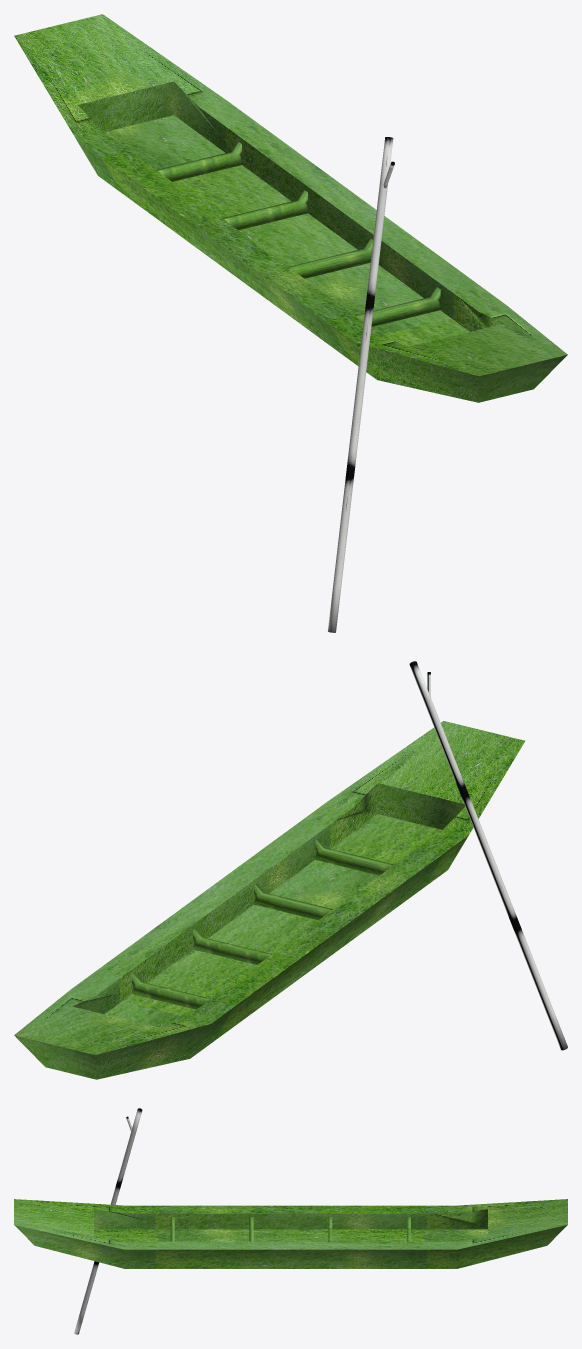
File: boat.obj
3 renders of one model, top to bottom at view 1: azimuth 30°, elevation 25°; view 2: azimuth 150°, elevation 25°; view 3: azimuth 270°, elevation 25°, orthographic. The views are drawn at different scales.
Parts seen in each view (by area): view 1: object 3, Box001, Cylinder001, Box005, Box004, Box002, Box006; view 2: object 3, Box001, Cylinder001, Box006, Box002, Box004, Box005; view 3: Box001, object 3, Cylinder001.
Boxes of the visible parts, x1,y1,x2,y2 form: object 3: (14,14,567,376); Box001: (75,81,567,402); Cylinder001: (328,137,393,632); Box005: (156,141,241,181); Box004: (222,190,307,230); Box002: (288,238,373,278); Box006: (355,287,440,326); object 3: (14,721,525,1055); Box001: (14,783,468,1079); Cylinder001: (409,661,567,1050); Box006: (315,838,394,875); Box002: (254,883,332,920); Box004: (193,928,271,964); Box005: (132,973,210,1009); Box001: (14,1209,567,1268); object 3: (14,1199,567,1249); Cylinder001: (74,1108,142,1334).
Bounding box in the file's own units: 18.15 × 34.2 × 66.89.
